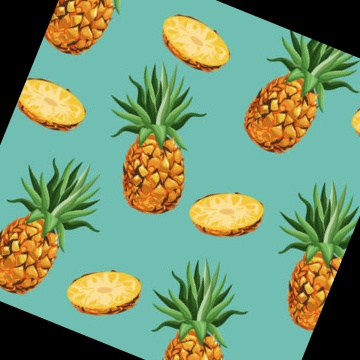Pineapple: (112, 62, 206, 212)
